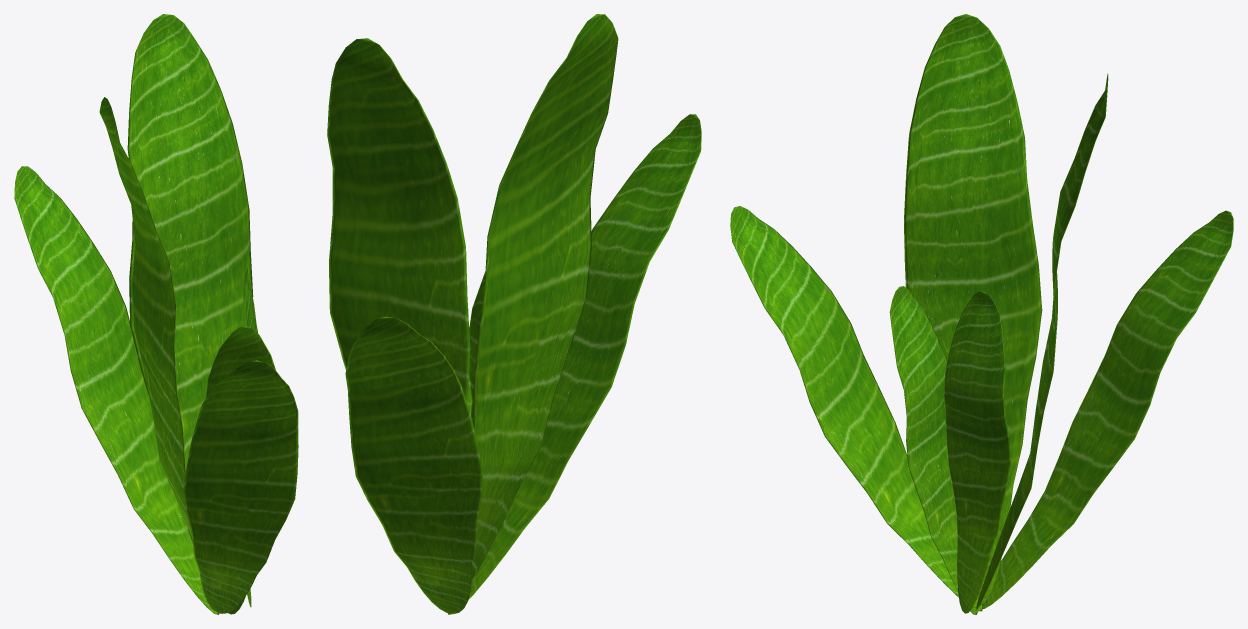
Rendered from Plant 2.fbx.
3 renders of one model, left to right at view 1: azimuth 30°, elevation 25°; view 2: azimuth 150°, elevation 25°; view 3: azimuth 270°, elevation 25°, orthographic. The views are drawn at different scales.
Visible parts, largest first — view 1: group_pasted__pSphere1; view 2: group_pasted__pSphere1; view 3: group_pasted__pSphere1.
Part boxes in pixels (x1,y1,x2,y2): group_pasted__pSphere1: [14, 14, 298, 614]; group_pasted__pSphere1: [327, 14, 701, 614]; group_pasted__pSphere1: [730, 14, 1233, 614].
Bounding box in the file's own units: 7.69 × 21.01 × 17.75.
1 material, 1 textured.
